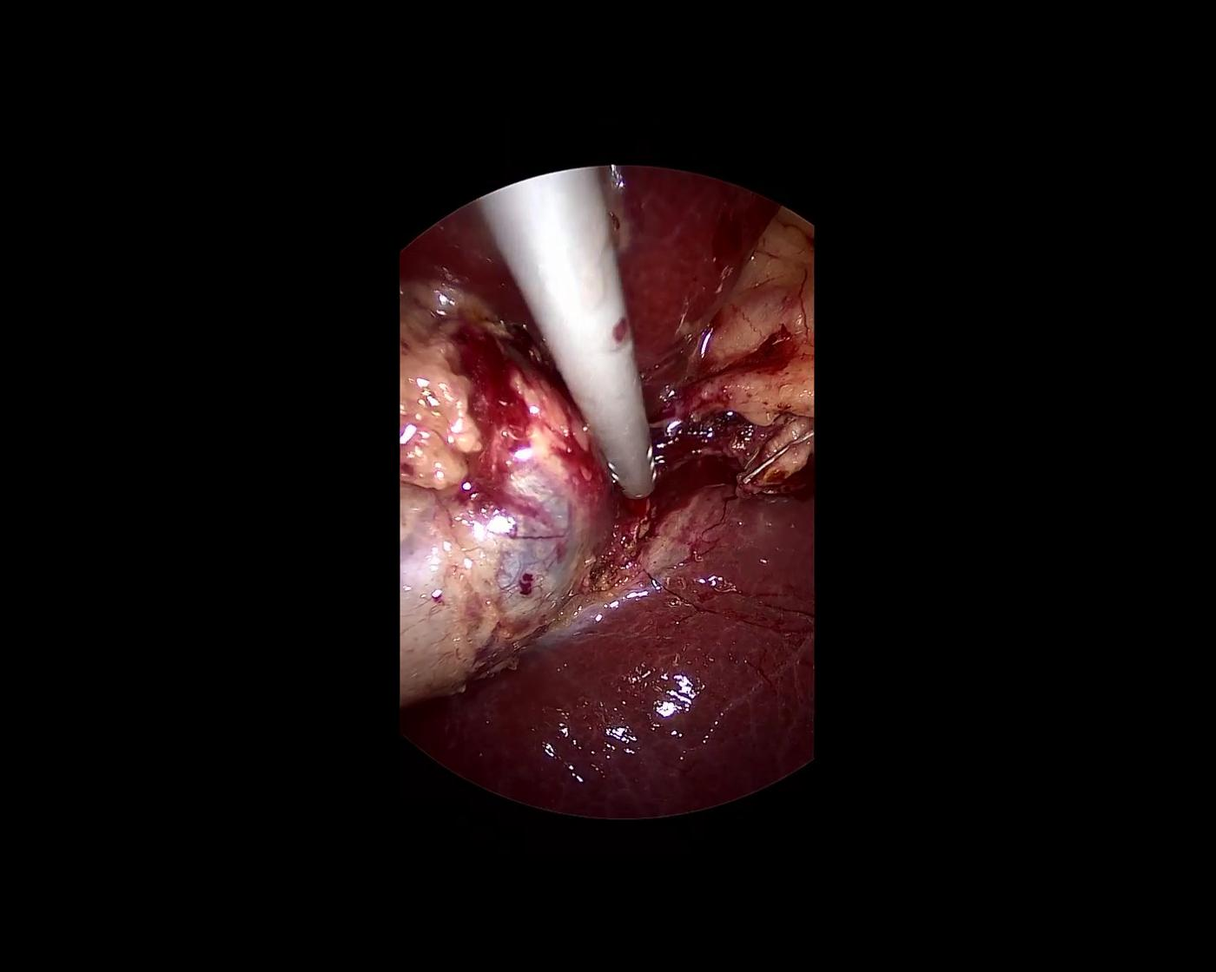Gallbladder: (399, 282, 615, 702), (476, 164, 661, 519)
Liver: (382, 442, 933, 938), (390, 118, 780, 387)
